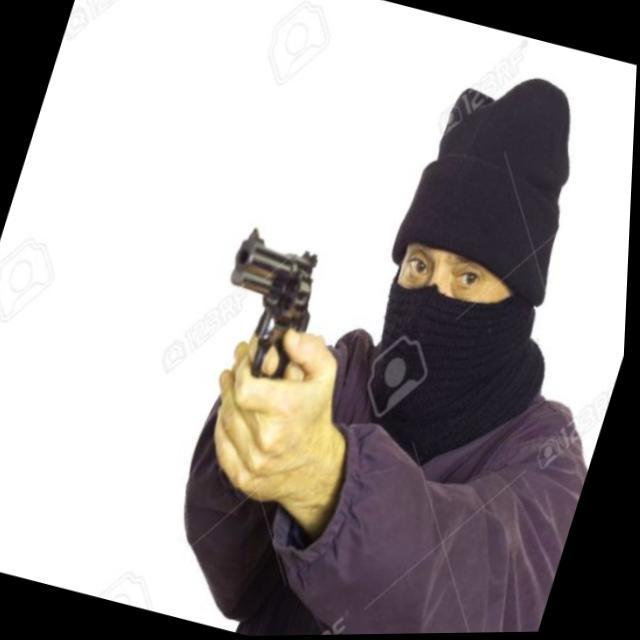weapon: (204, 224, 336, 388)
